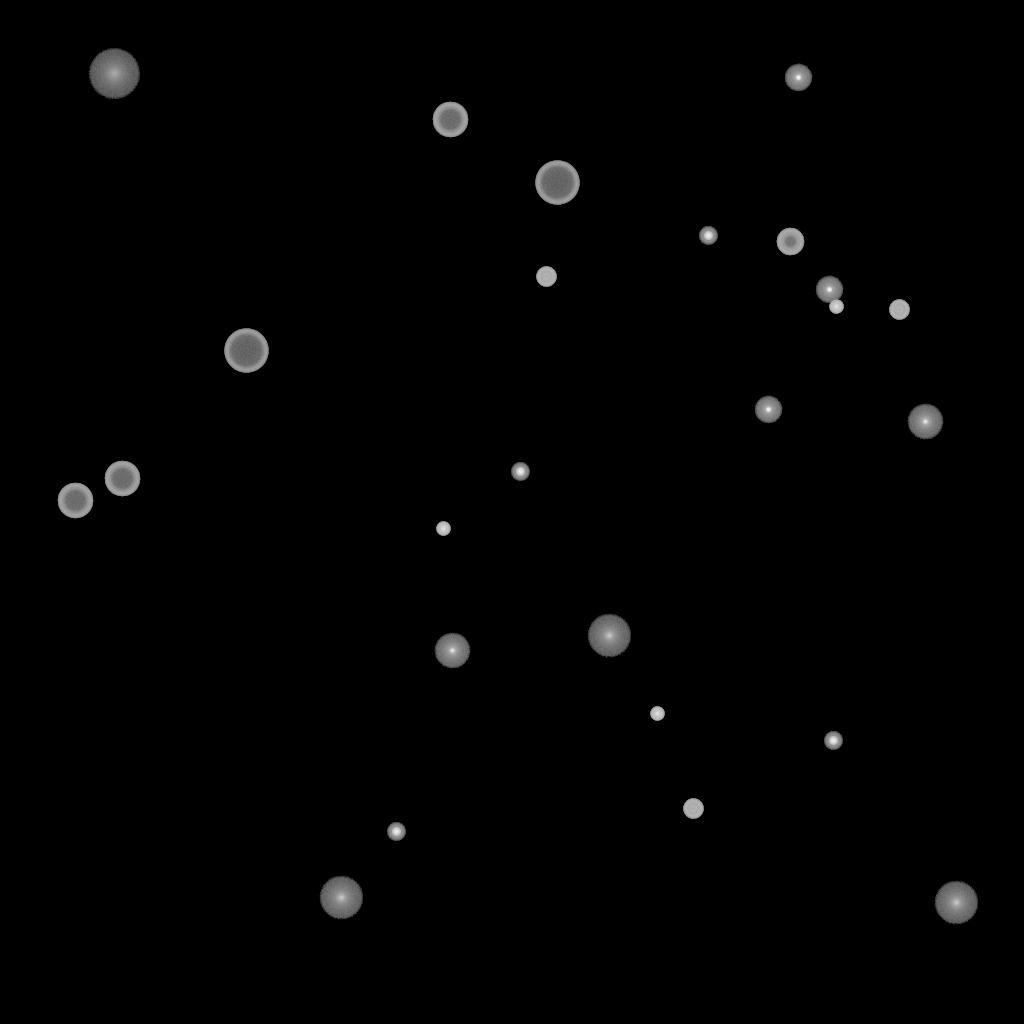depth:-10: (754, 396, 782, 424), (784, 64, 812, 92), (815, 276, 843, 304)
depth:-20: (387, 823, 405, 841), (824, 732, 842, 750), (511, 463, 529, 481), (699, 227, 717, 245)
depth:-30: (829, 300, 843, 314), (436, 522, 450, 536), (650, 707, 664, 721)
depth:-40: (683, 799, 703, 819), (889, 300, 909, 320), (536, 267, 556, 287)
depth:-50: (776, 228, 804, 256)
depth:-60: (104, 461, 140, 497), (432, 102, 468, 138), (57, 483, 93, 519)
depth:-70: (535, 161, 579, 205), (224, 329, 268, 373)
depth:0: (434, 633, 470, 669), (907, 404, 943, 440)
depth:10: (934, 881, 978, 925), (319, 876, 363, 920), (587, 614, 631, 658)
depth:20: (88, 49, 140, 99)
